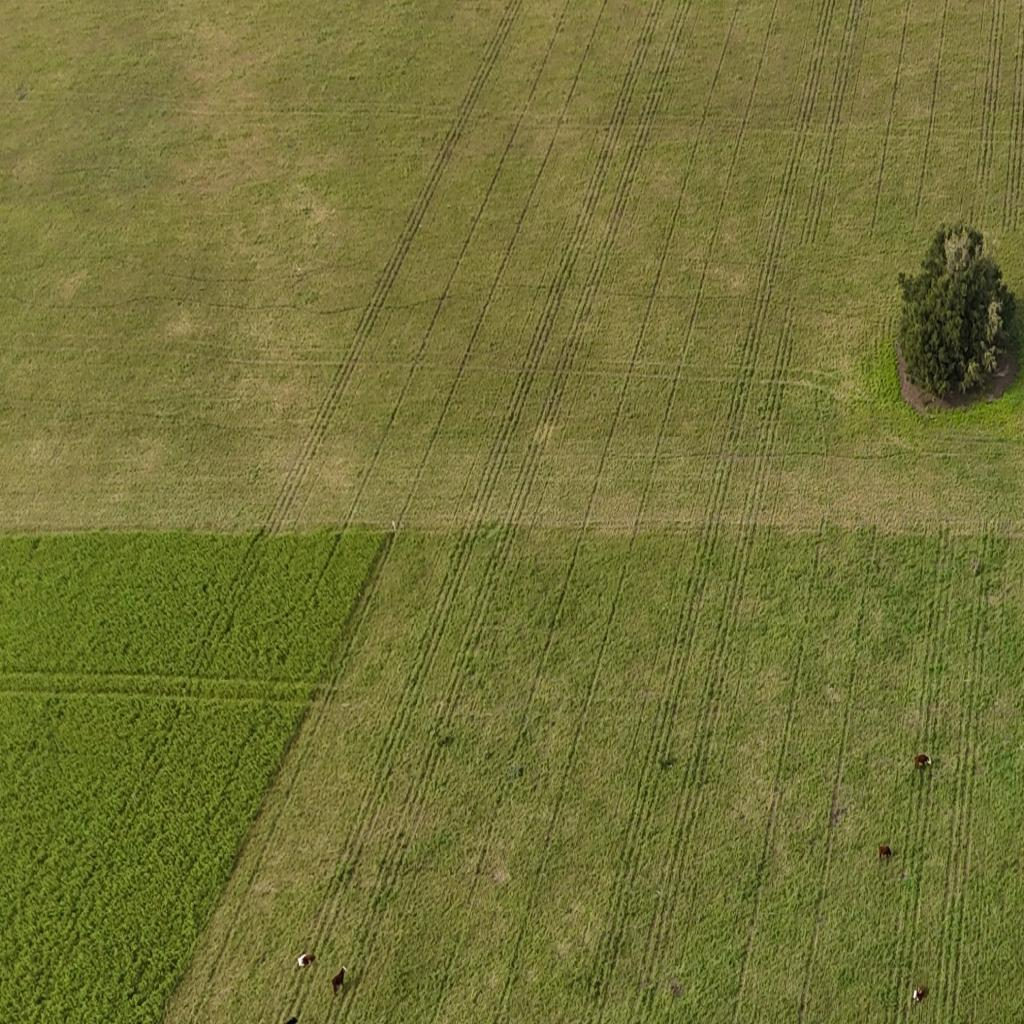cow: (331, 965, 348, 996), (913, 750, 932, 772), (296, 951, 315, 971), (912, 984, 928, 1004), (878, 842, 892, 862), (280, 1013, 298, 1023), (916, 746, 925, 762), (306, 947, 316, 961)
